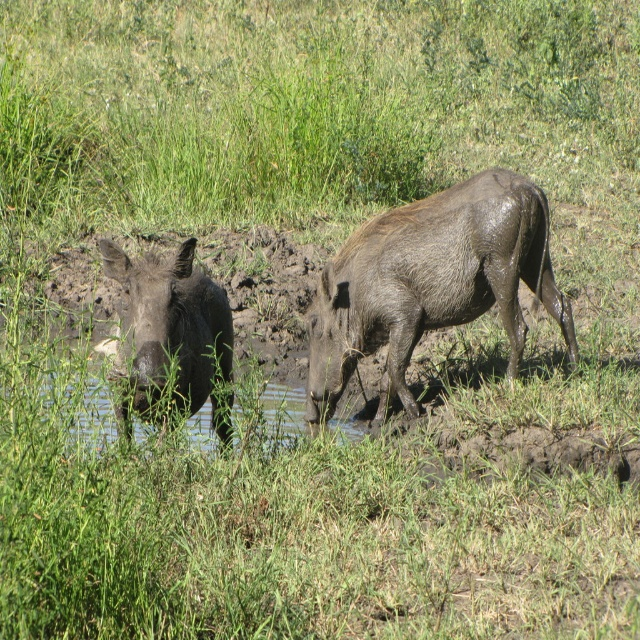Pig: (303, 169, 581, 424), (89, 237, 234, 461)
